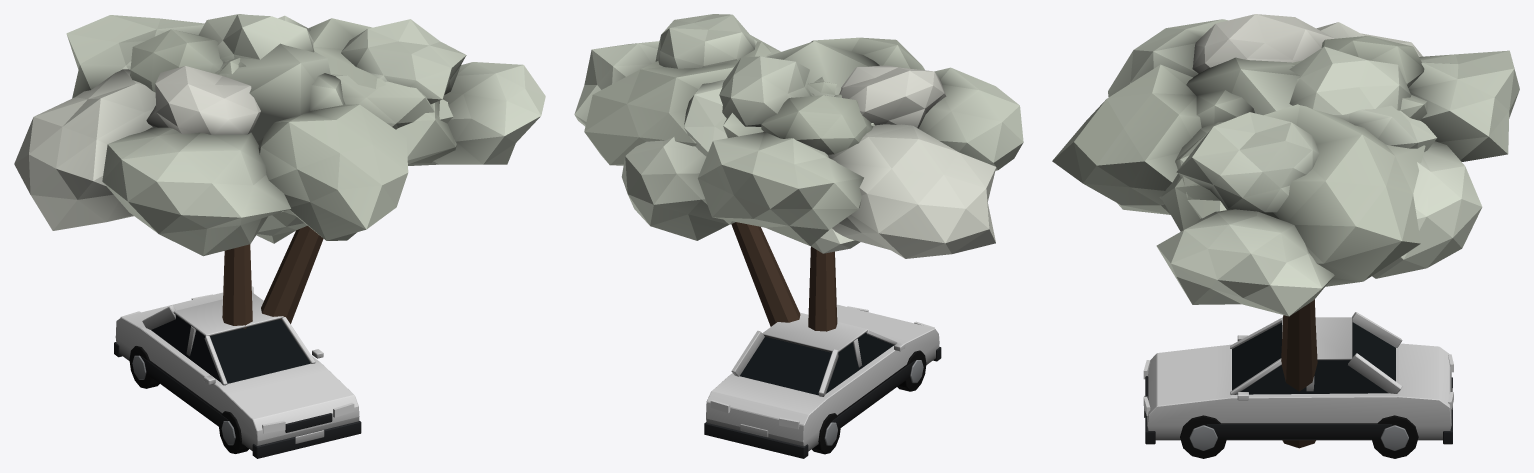
The model's file is street.glb.
3 views of the same model, side by side, from view 1: azimuth 30°, elevation 25°; view 2: azimuth 150°, elevation 25°; view 3: azimuth 270°, elevation 25° (orthographic). The views are drawn at different scales.
Visible parts, largest first — view 1: crown_m, car_body, crown_l, trunk_l, trunk_m, crown_f; view 2: crown_m, car_body, crown_l, trunk_l, trunk_m, crown_f; view 3: crown_m, crown_l, car_body, trunk_l.
Part boxes in pixels (bbox=[...]): crown_m: bbox=[14, 14, 453, 256]; car_body: bbox=[114, 286, 361, 458]; crown_l: bbox=[278, 15, 545, 165]; trunk_l: bbox=[261, 225, 323, 323]; trunk_m: bbox=[222, 244, 252, 328]; crown_f: bbox=[210, 58, 307, 243]; crown_m: bbox=[621, 35, 1023, 258]; car_body: bbox=[704, 304, 941, 458]; crown_l: bbox=[574, 14, 771, 165]; trunk_l: bbox=[731, 222, 800, 326]; trunk_m: bbox=[808, 246, 837, 331]; crown_f: bbox=[807, 81, 874, 253]; crown_m: bbox=[1052, 14, 1519, 278]; crown_l: bbox=[1156, 104, 1436, 316]; car_body: bbox=[1144, 312, 1452, 458]; trunk_l: bbox=[1281, 300, 1317, 448].
Bounding box in the file's own units: 7.93 × 6.18 × 6.51.
